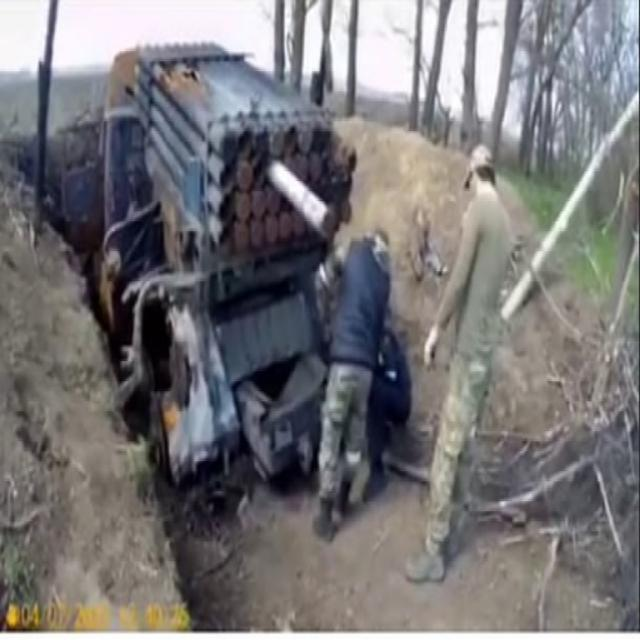MLRS: (60, 42, 359, 504)
